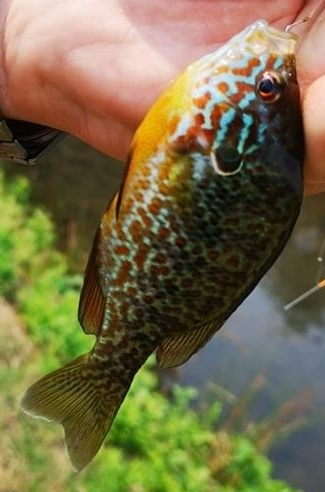Lepomis gibbosus: (20, 20, 305, 472)
